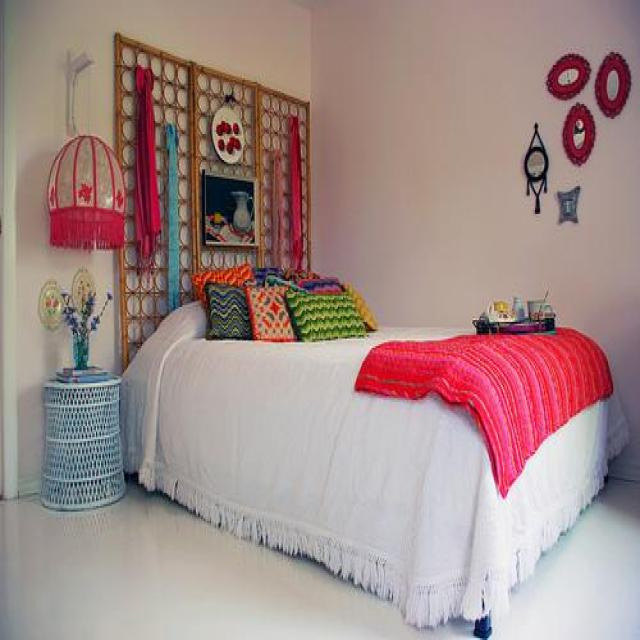bed: (123, 259, 622, 640)
